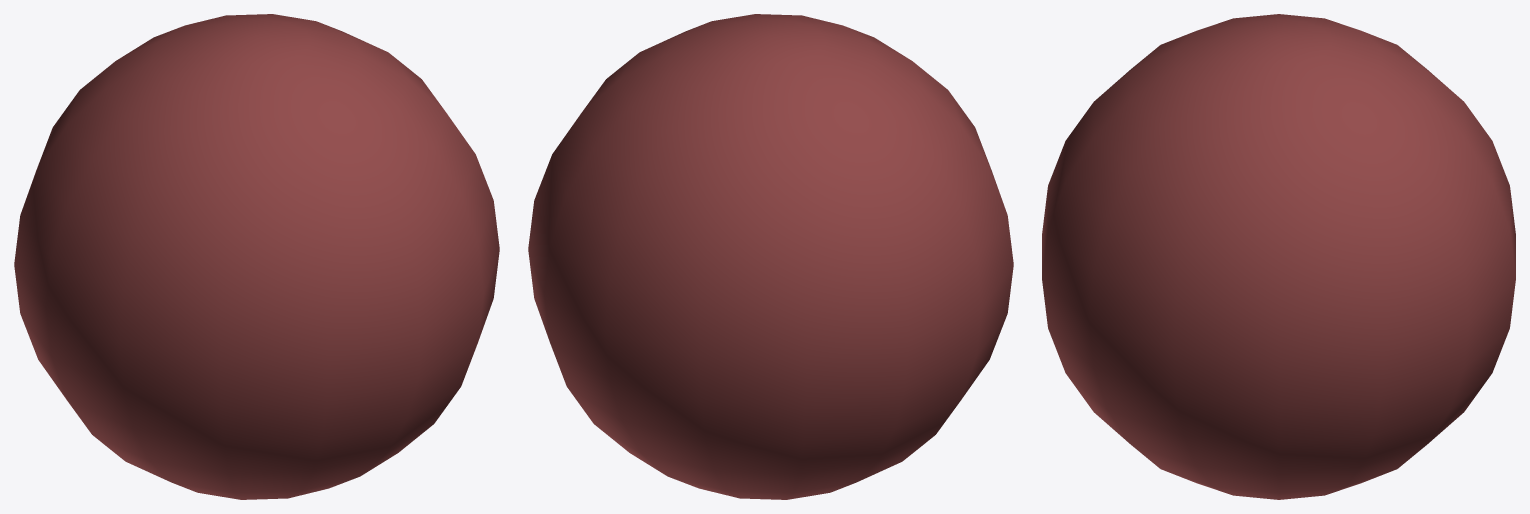
Rendered from cherry.fbx.
The picture shows the model from 3 angles, left to right: view 1: azimuth 30°, elevation 25°; view 2: azimuth 150°, elevation 25°; view 3: azimuth 270°, elevation 25°; orthographic projection.
Visible parts, largest first — view 1: pSphere1; view 2: pSphere1; view 3: pSphere1.
Part boxes in pixels (x1,y1,x2,y2): pSphere1: (14,14,499,499); pSphere1: (528,14,1013,499); pSphere1: (1042,14,1515,499).
Bounding box in the file's own units: 2 × 2 × 1.95.
